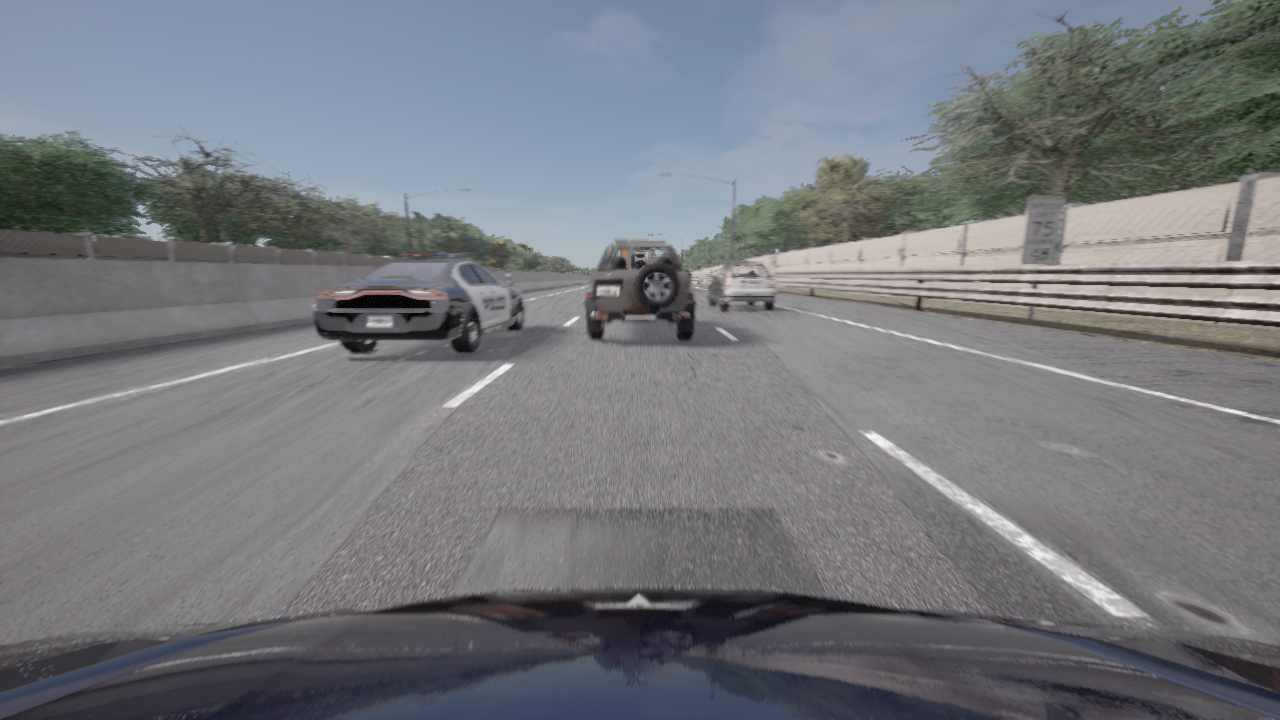cyclist: (0, 588, 1279, 719), (311, 254, 524, 352), (584, 239, 695, 339), (708, 262, 775, 310)
